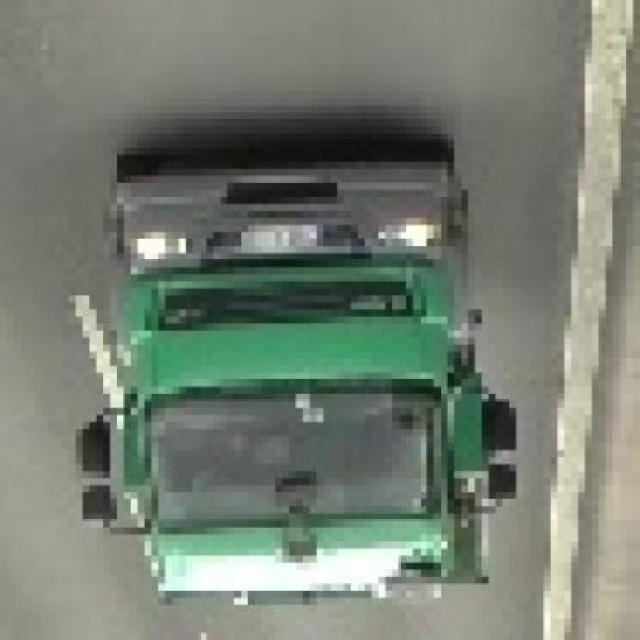truck: (69, 127, 511, 606)
